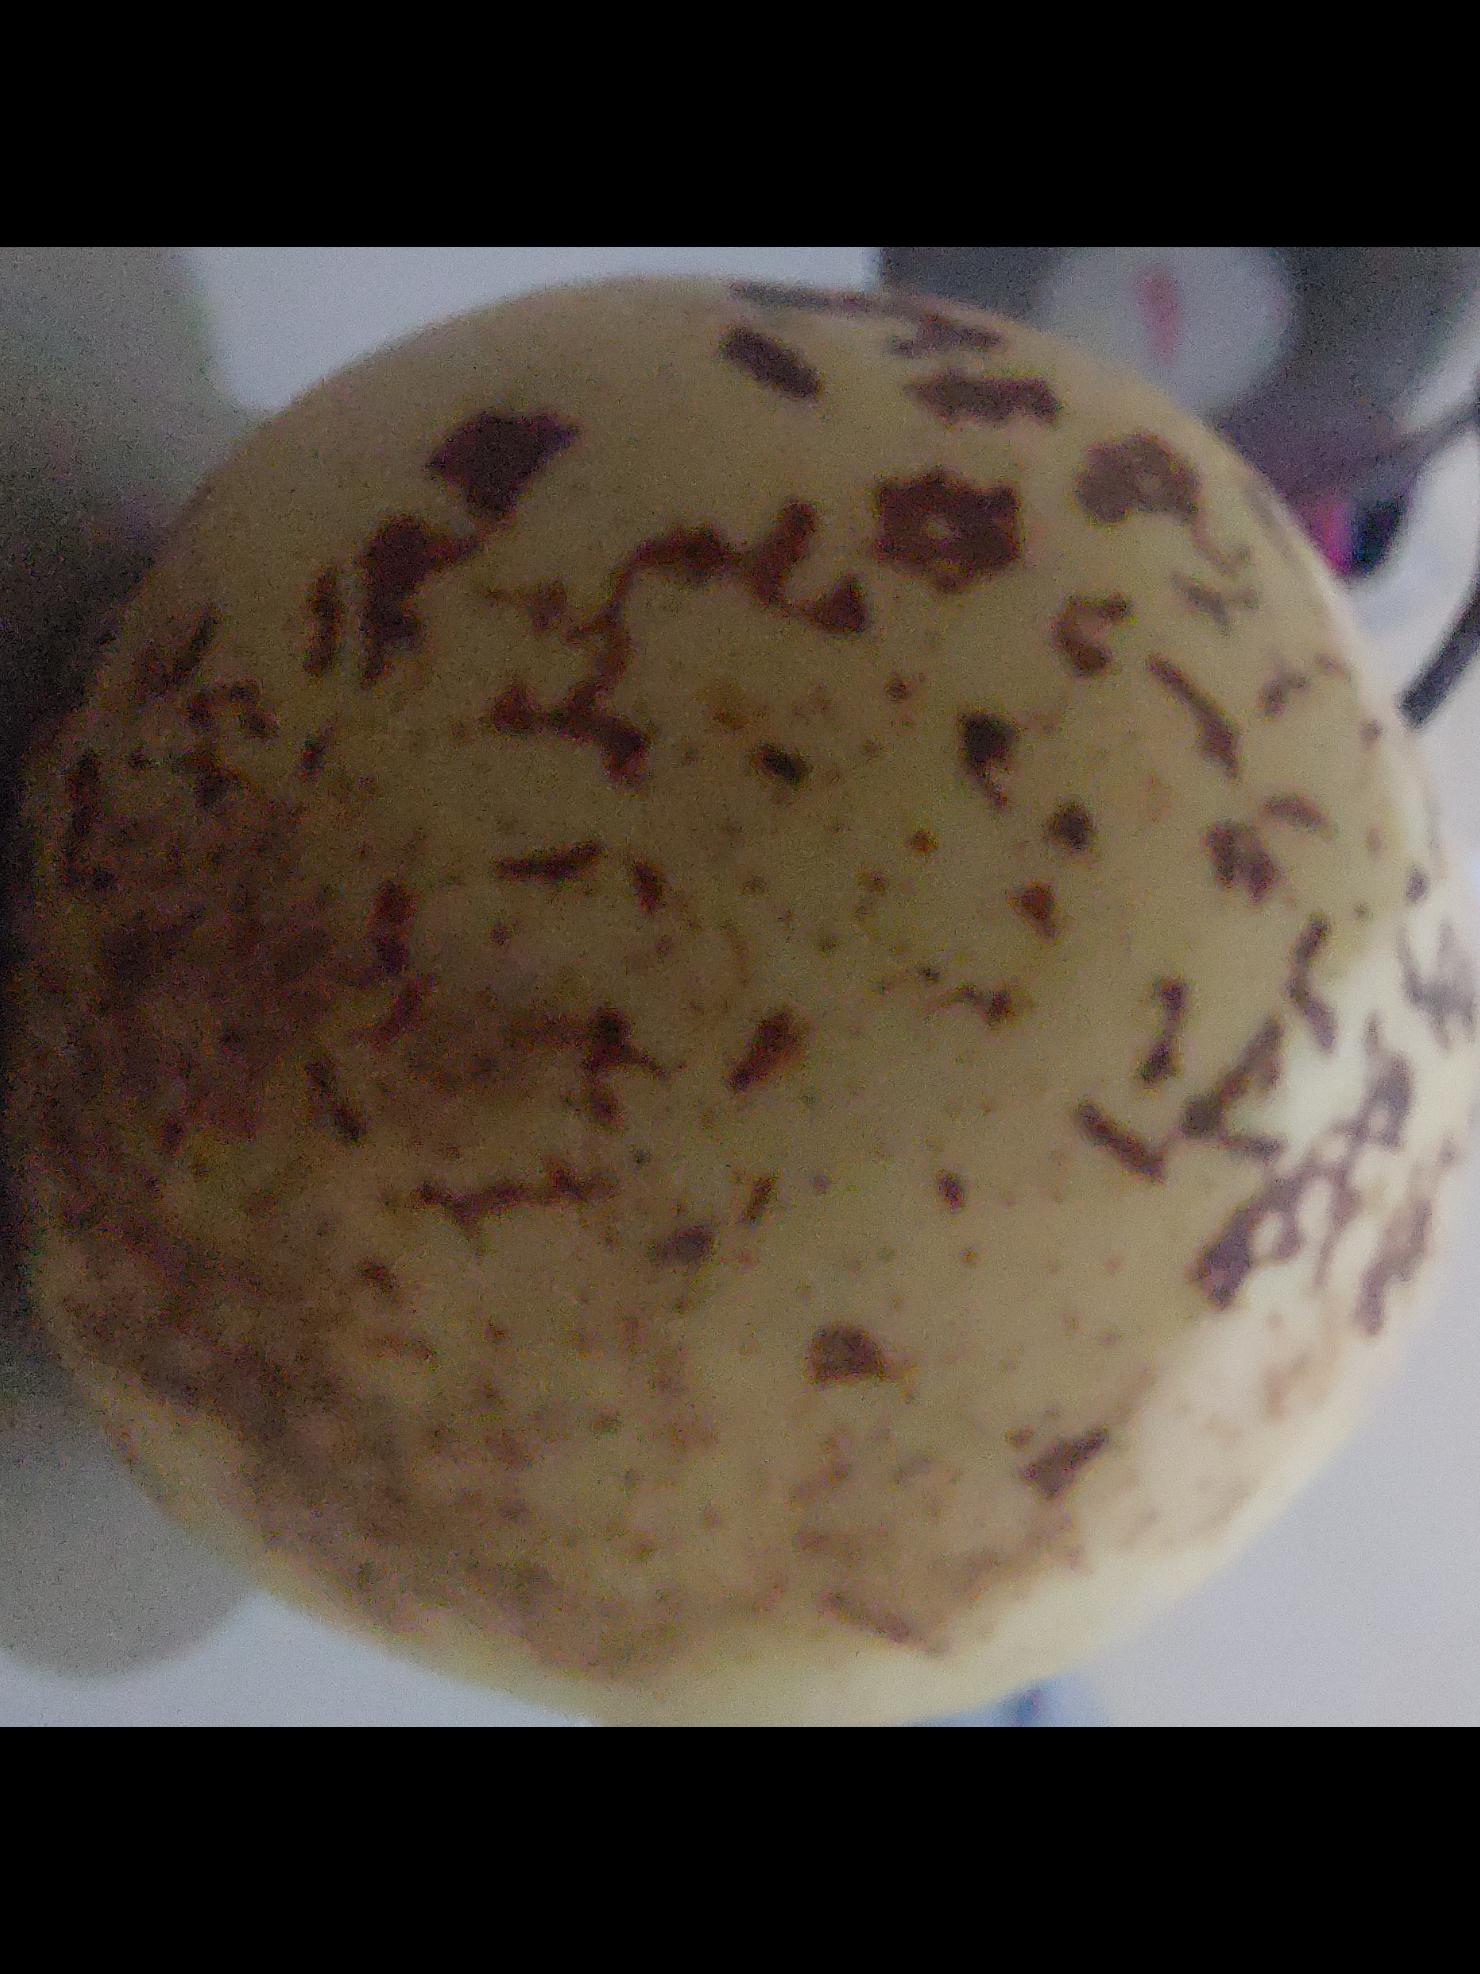Bad Pear: (12, 260, 1480, 1727)
